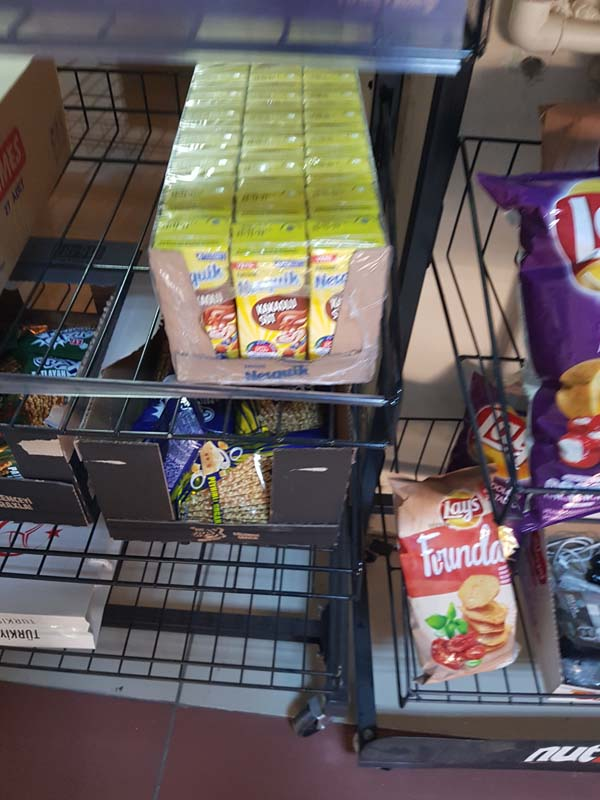laysfirindan: (389, 470, 534, 687)
layspeynirsoslu: (485, 157, 600, 532), (304, 207, 390, 363), (161, 206, 235, 363)
nesquick200ml: (229, 209, 315, 361)
